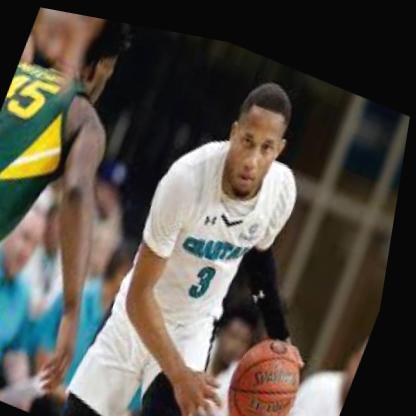basketball: (225, 316, 322, 416)
